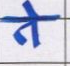e_matra: (21, 1, 41, 16)
